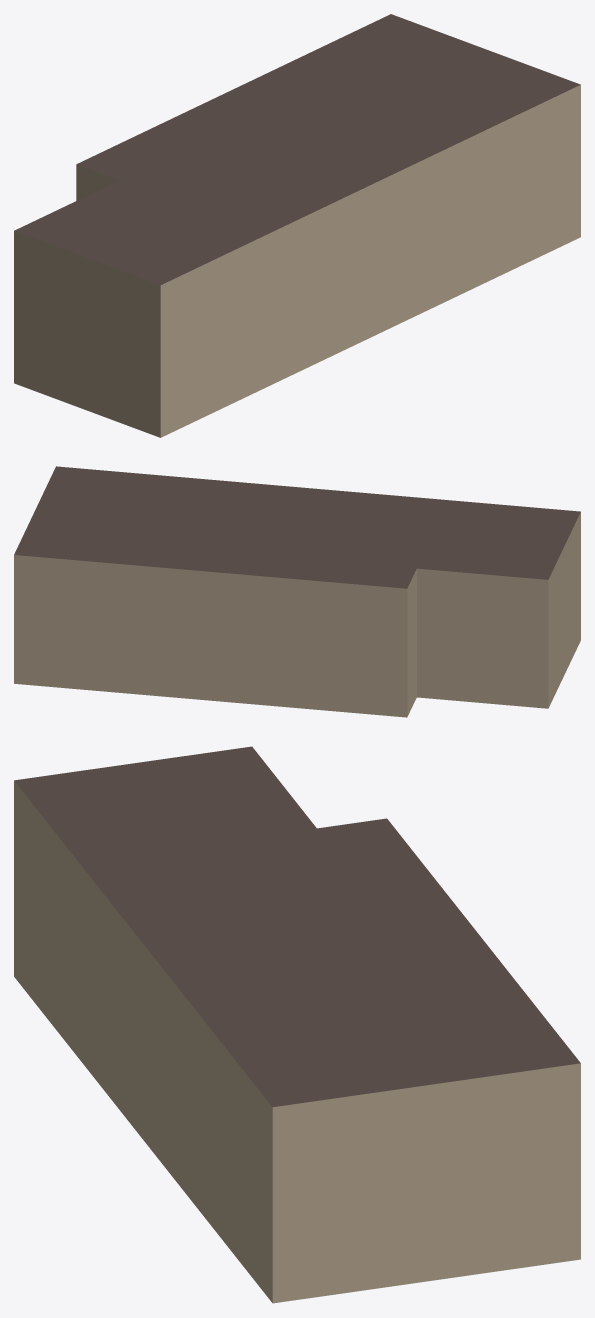
3 views of the same model, one above another, from view 1: azimuth 30°, elevation 25°; view 2: azimuth 150°, elevation 25°; view 3: azimuth 270°, elevation 25° (orthographic). The views are drawn at different scales.
Visible parts, largest first — view 1: HP-w776801030; view 2: HP-w776801030; view 3: HP-w776801030.
Boxes of the visible parts, box(x1,y1,x2,y2) form: HP-w776801030: box(14, 14, 580, 437); HP-w776801030: box(14, 466, 580, 717); HP-w776801030: box(14, 746, 580, 1303).
Size of the model in its own units: 35.49 by 9 by 23.57.
